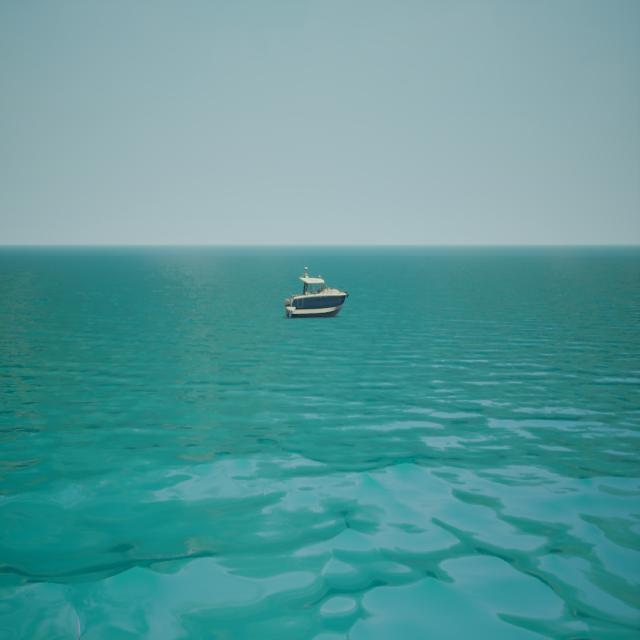ship: (284, 264, 349, 317)
